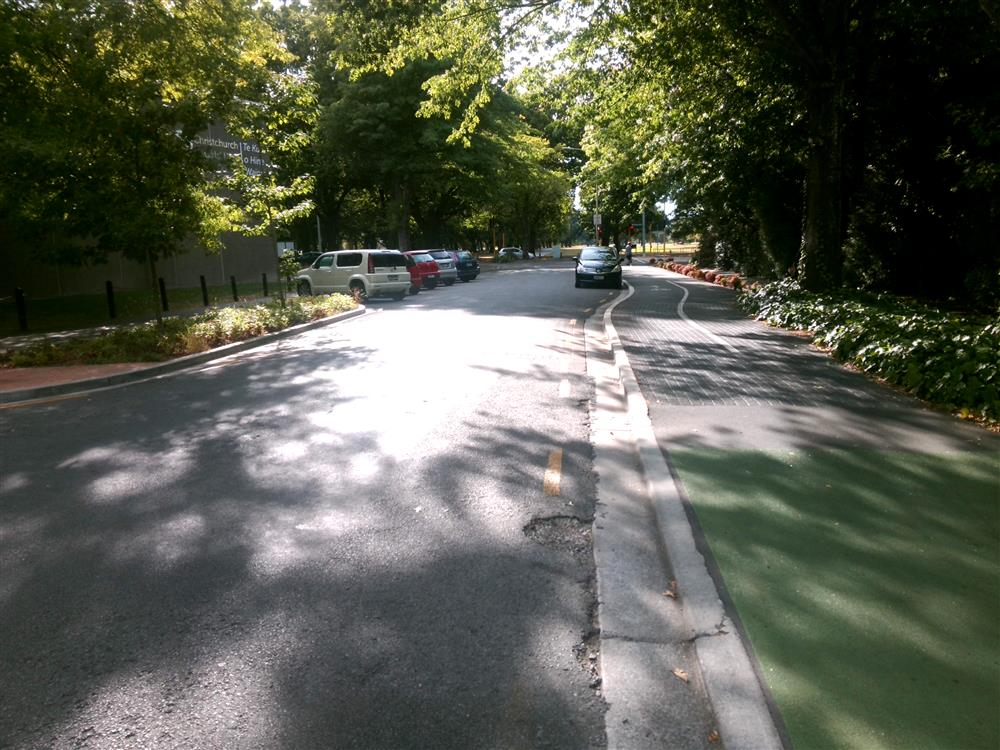pothole: (519, 508, 596, 562), (578, 578, 603, 697)
